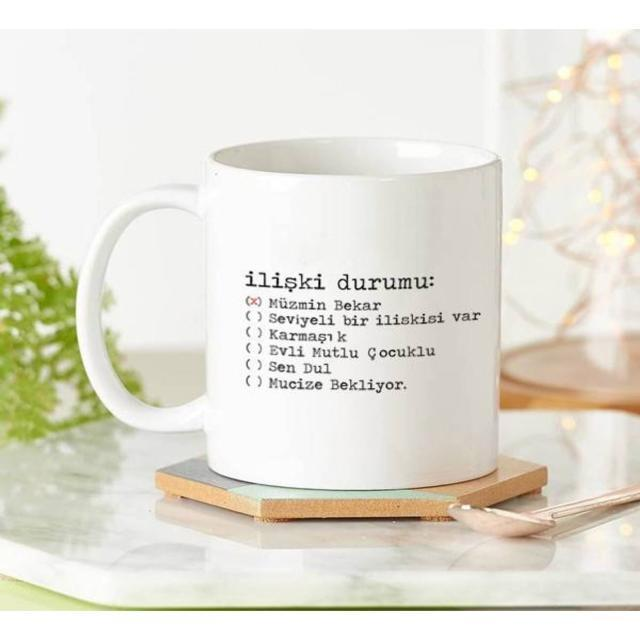Coffee Mug: (74, 136, 504, 491)
